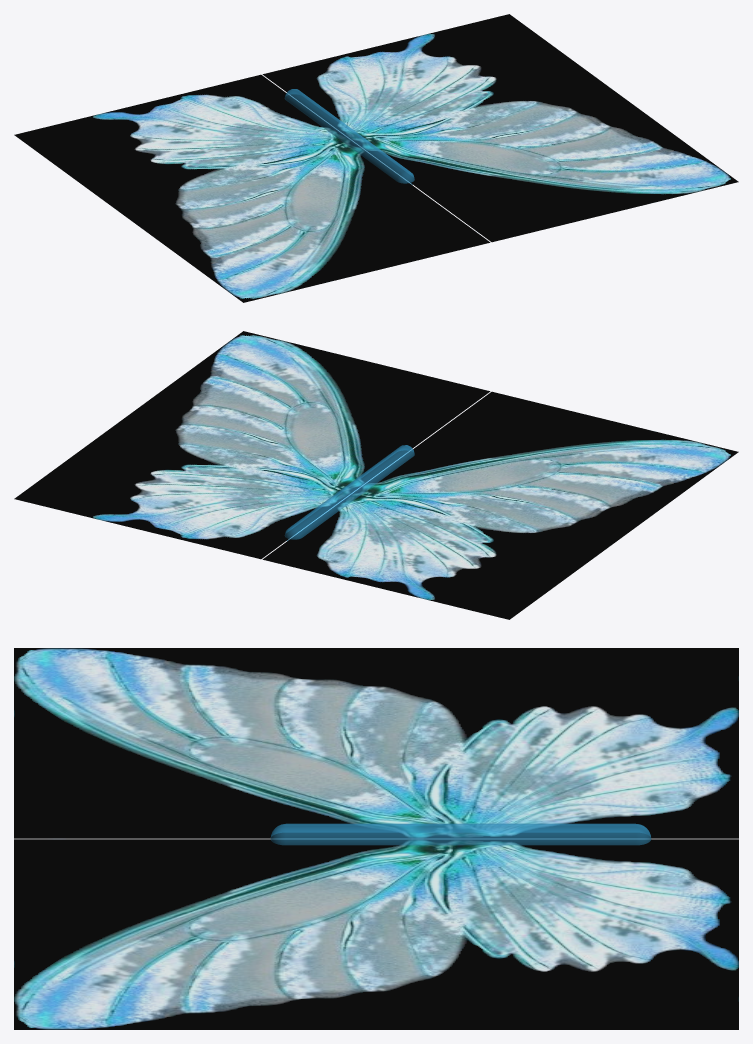
The model's file is butterfly.fbx.
3 views of the same model, one above another, from view 1: azimuth 30°, elevation 25°; view 2: azimuth 150°, elevation 25°; view 3: azimuth 270°, elevation 25° (orthographic). The views are drawn at different scales.
Parts seen in each view (by area): view 1: wing-right, wing-left, Capsule001; view 2: wing-left, wing-right, Capsule001; view 3: wing-left, wing-right, Capsule001.
Boxes of the visible parts, left/top/right/bottom form: wing-right: left=14, top=74, right=490, bottom=302; wing-left: left=262, top=14, right=738, bottom=242; Capsule001: left=284, top=89, right=414, bottom=184; wing-left: left=14, top=331, right=490, bottom=559; wing-right: left=262, top=391, right=738, bottom=619; Capsule001: left=284, top=445, right=414, bottom=541; wing-left: left=14, top=839, right=738, bottom=1029; wing-right: left=14, top=648, right=738, bottom=838; Capsule001: left=270, top=823, right=651, bottom=845.
Bounding box in the file's own units: 59.33 × 2 × 47.6.
Materials: 2 (1 with a texture image).
